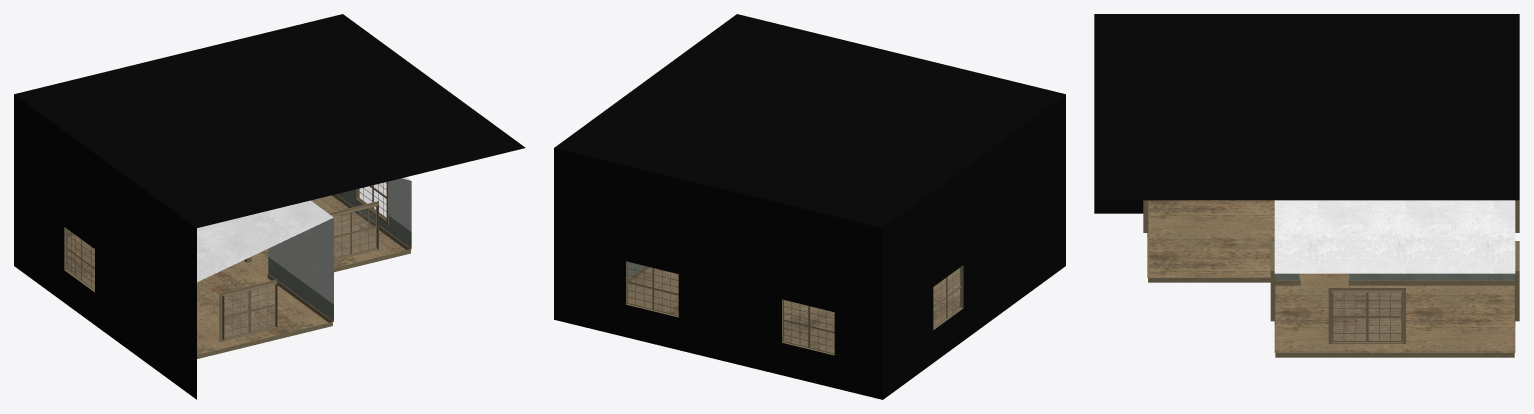
File: building-transformed.glb
The picture shows the model from 3 angles, left to right: view 1: azimuth 30°, elevation 25°; view 2: azimuth 150°, elevation 25°; view 3: azimuth 270°, elevation 25°; orthographic projection. The views are drawn at different scales.
Parts seen in each view (by area): view 1: Material2 (×6), Material3; view 2: Material2 (×4); view 3: Material2 (×5), Material3.
Part boxes in pixels (x1,y1,x2,y2): Material2 (×6): (14, 14, 525, 399); Material3: (68, 190, 411, 321); Material2 (×4): (554, 14, 1065, 399); Material2 (×5): (1094, 14, 1519, 357); Material3: (1275, 273, 1514, 280).
Size of what is drawn, in the model's own units: 479 by 239 by 462.
7 materials, 6 textured.
